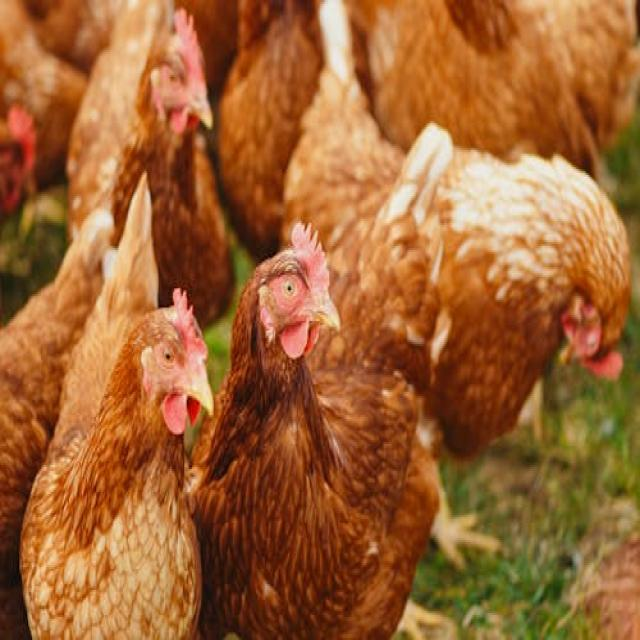Chicken: (329, 94, 630, 449), (220, 245, 400, 638), (54, 245, 218, 640), (115, 17, 228, 271)
